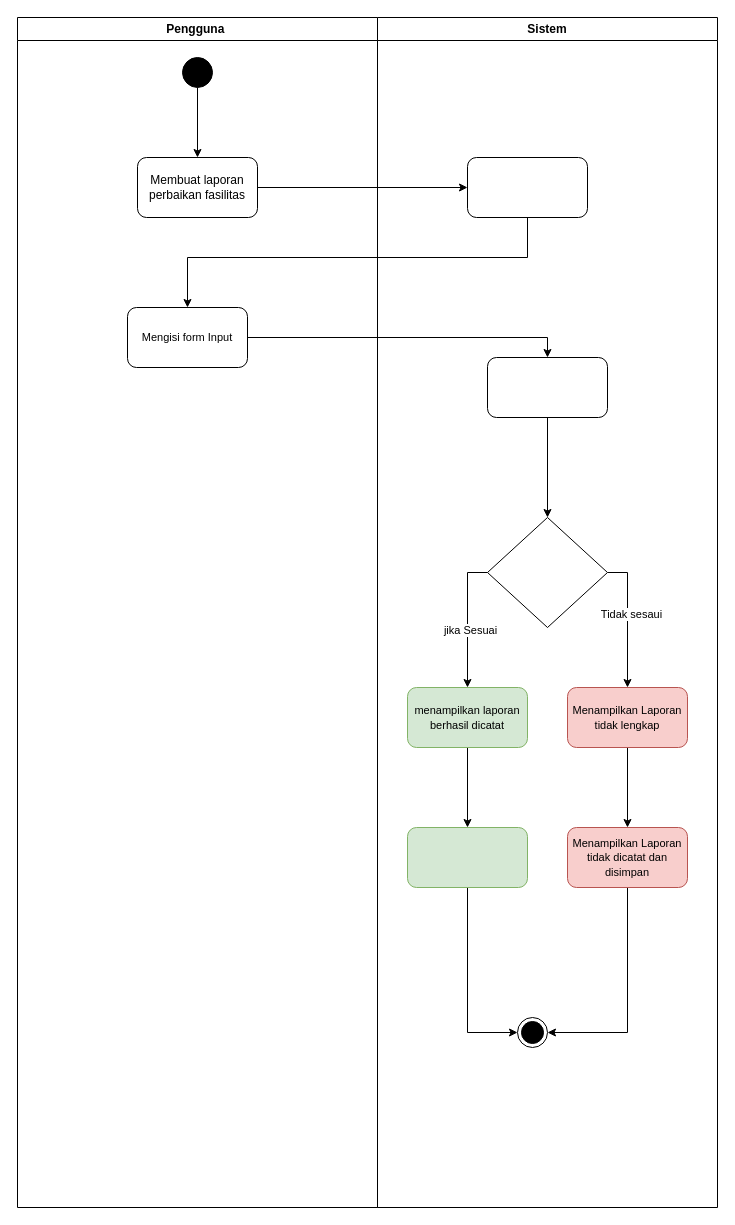
Some shapes in this 735 by 1225 pixel diagram are drawn without their labels. The centre of each missing label's shape, as x and y in pixels:
"Inputan sudah sesuai ?" goes at (547,572).
"Memvalidasi Form Inputan" goes at (547,387).
"Menampilkan form input (lokasi, jenis kerusakan dan deskripsi)" goes at (527,187).
"menyimpan catatan laporan" goes at (467,857).
